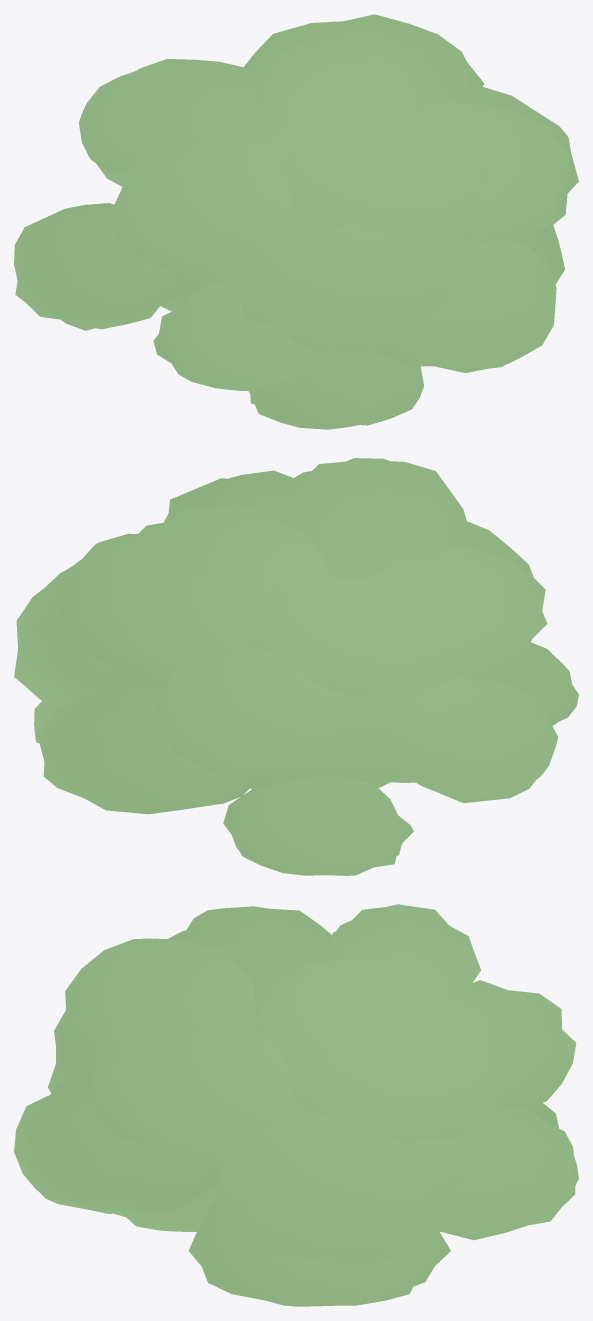
The model's file is Blender_Shrub_1.glb.
3 renders of one model, top to bottom at view 1: azimuth 30°, elevation 25°; view 2: azimuth 150°, elevation 25°; view 3: azimuth 270°, elevation 25°, orthographic. The views are drawn at different scales.
Visible parts, largest first — view 1: Blender_Shrub_1; view 2: Blender_Shrub_1; view 3: Blender_Shrub_1.
Boxes of the visible parts, bbox=[...] form: Blender_Shrub_1: bbox=[14, 14, 578, 429]; Blender_Shrub_1: bbox=[14, 458, 578, 875]; Blender_Shrub_1: bbox=[14, 904, 578, 1306].
Bounding box in the file's own units: 2.45 × 1.53 × 2.28.
